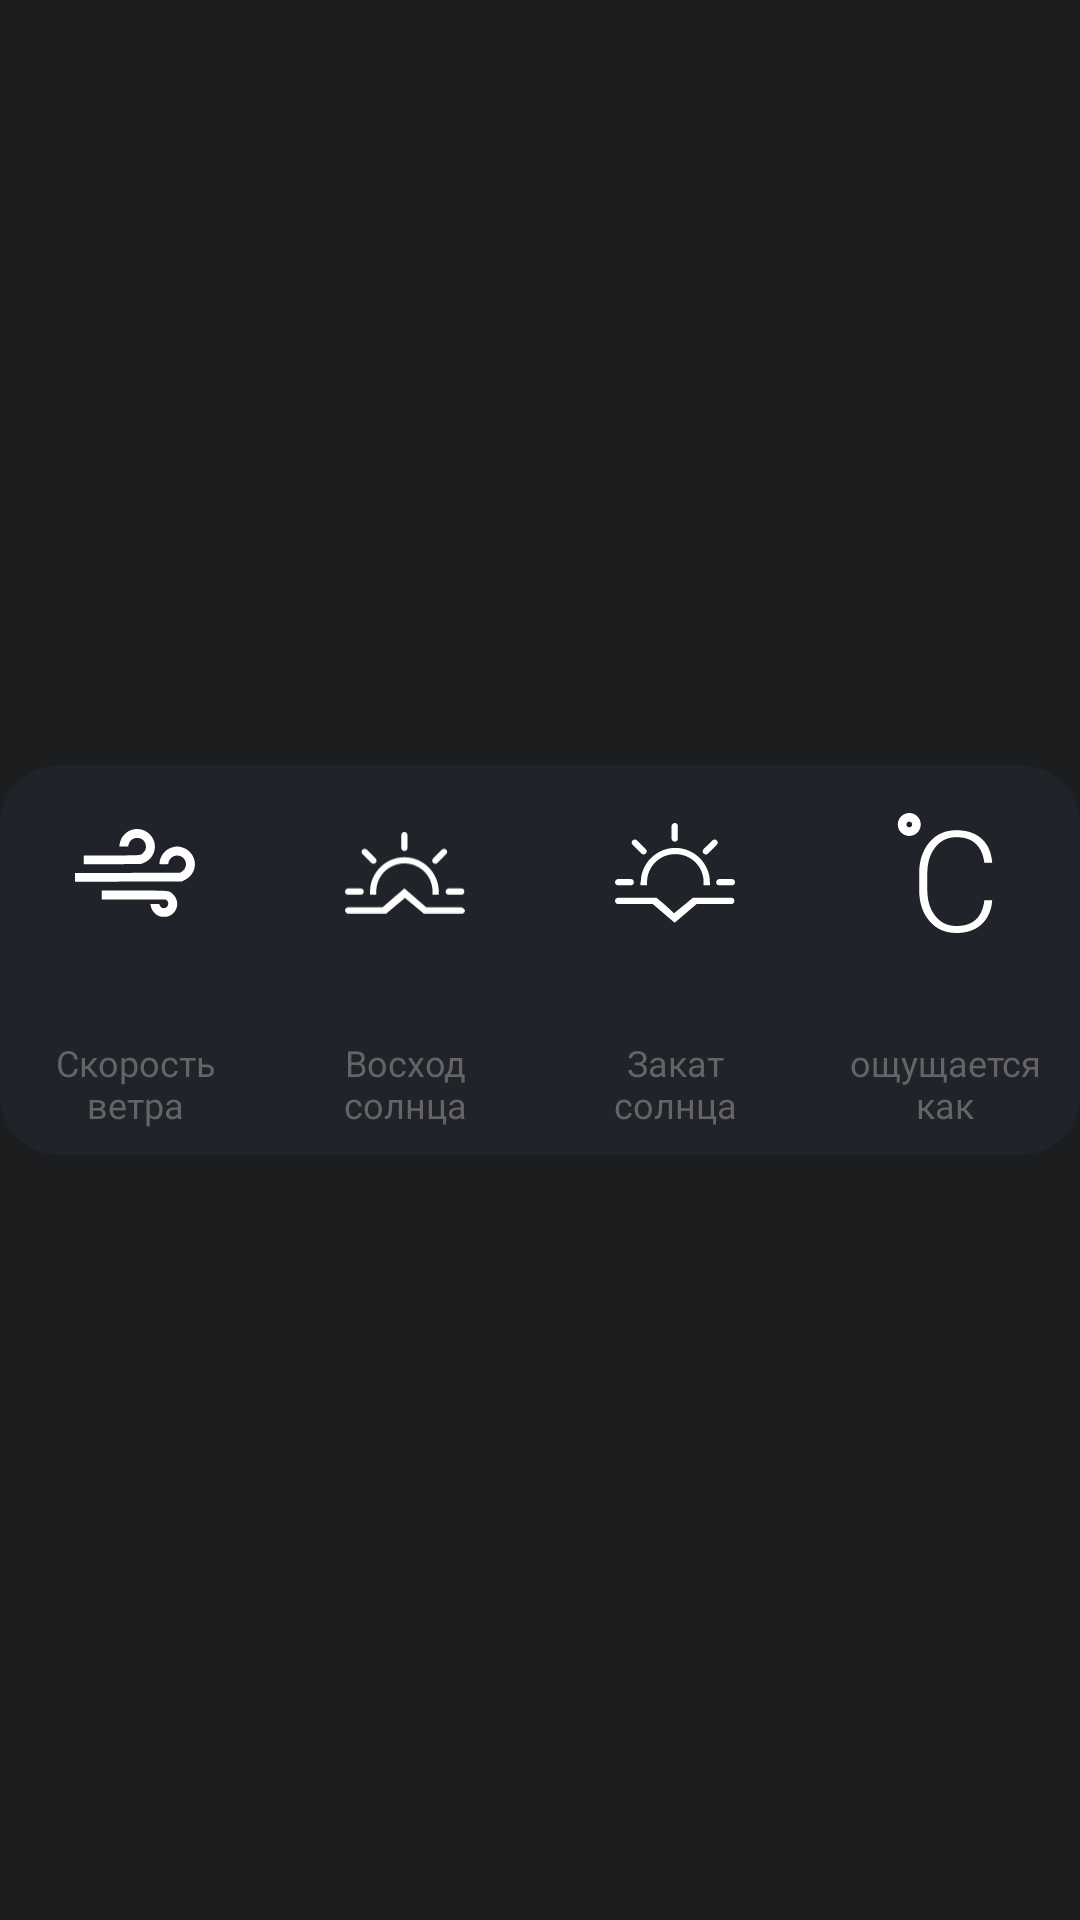

Icons on this 1080w x 1920h Android screen, each with the point to tap as (x=x, y=y):
degree: (x=945, y=873)
sun rise: (x=405, y=873)
sun set: (x=675, y=873)
wind: (x=135, y=873)
